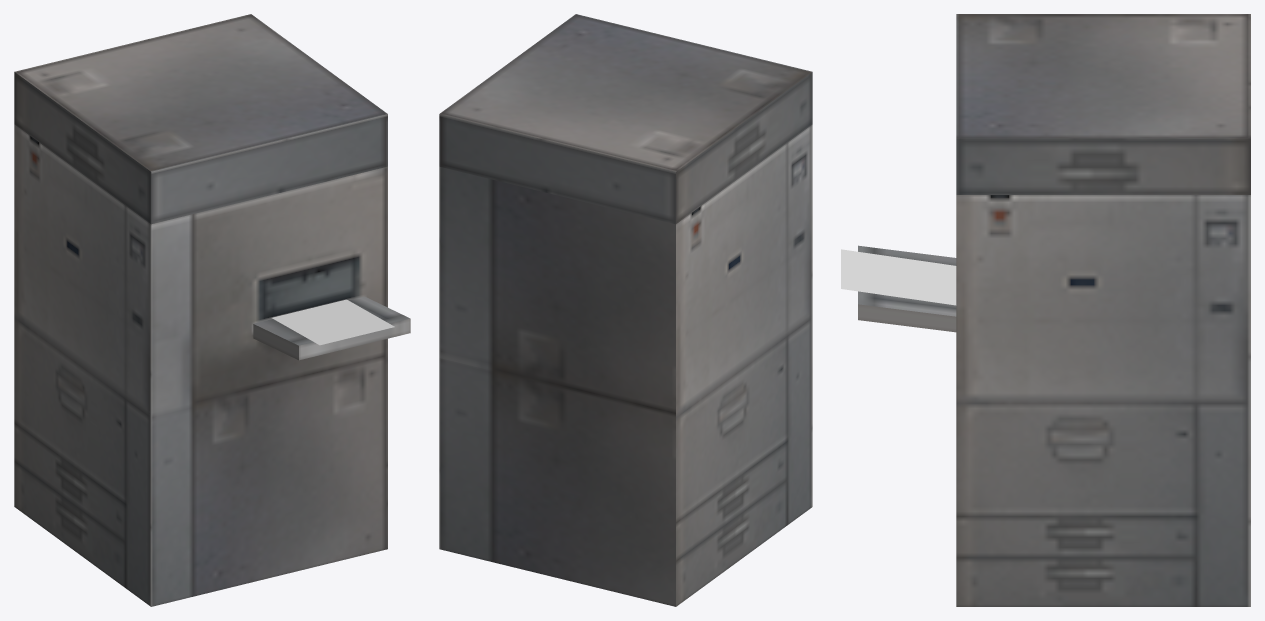
File: SM_SYD_Photocopier01.fbx
3 views of the same model, side by side, from view 1: azimuth 30°, elevation 25°; view 2: azimuth 150°, elevation 25°; view 3: azimuth 270°, elevation 25° (orthographic). The views are drawn at different scales.
Visible parts, largest first — view 1: SM_SYD_Photocopier01; view 2: SM_SYD_Photocopier01; view 3: SM_SYD_Photocopier01.
Part boxes in pixels (x1,y1,x2,y2): SM_SYD_Photocopier01: [14, 14, 410, 606]; SM_SYD_Photocopier01: [439, 14, 812, 606]; SM_SYD_Photocopier01: [841, 14, 1250, 606].
Bounding box in the file's own units: 76.33 × 134 × 106.
